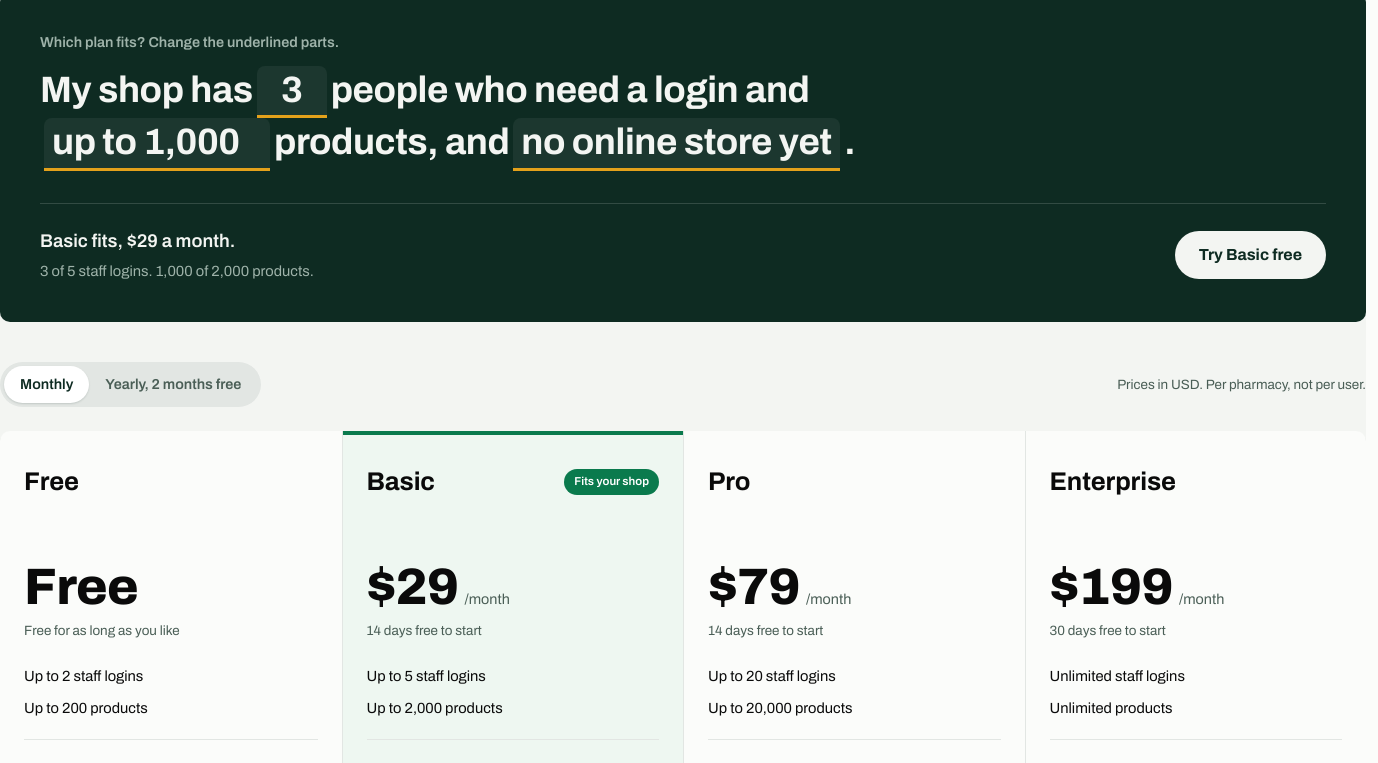
Test: Pricing › switches every price to yearly and shows the saving
(page scrolled)
Click the radio button labelled "Yearly, 2 months free". click: (173, 384)
box: [105,376,241,392]
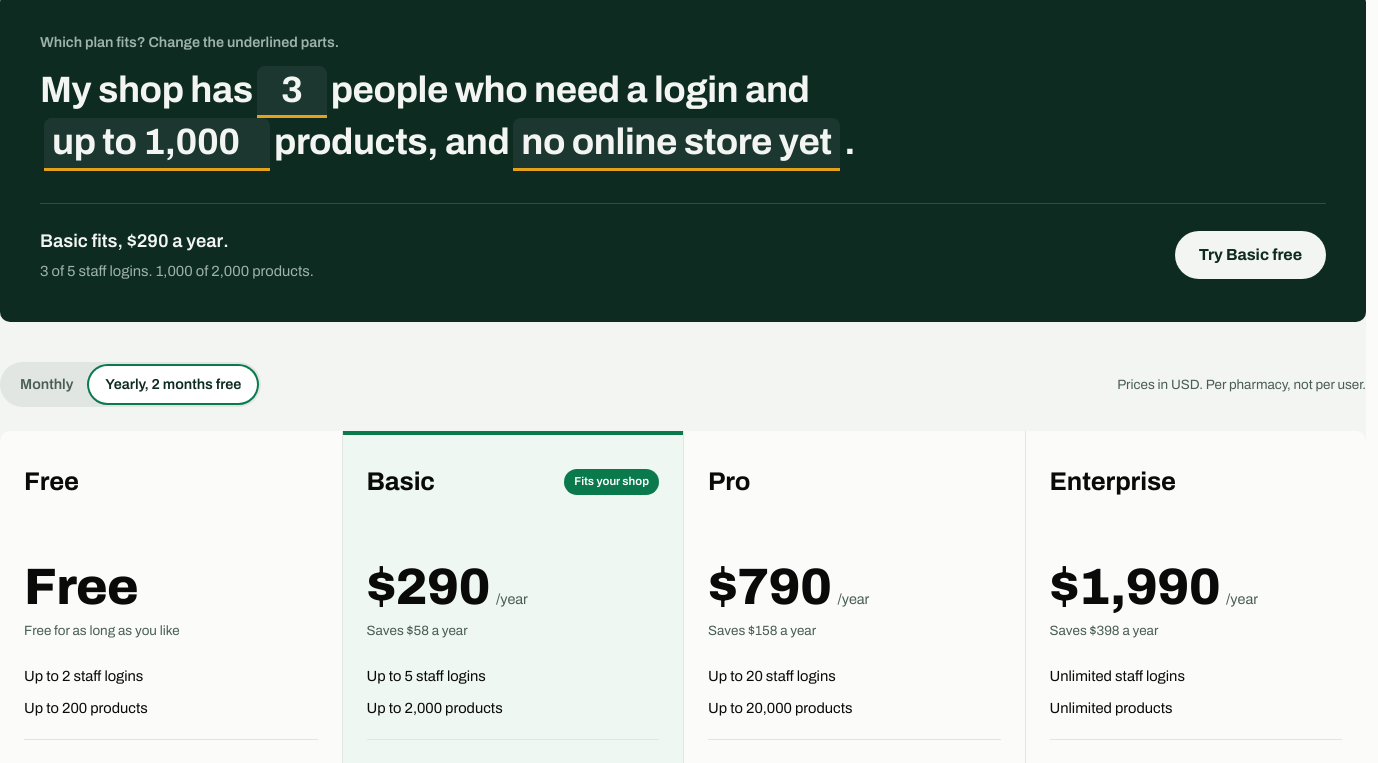
expect the text "$290" is shown: met, box [366,562,490,613]
expect the text "/year" below "Fits your shop" is shown: met, box [496,589,528,611]
expect the text "Saves $58 a year" is shown: met, box [366,623,468,638]
